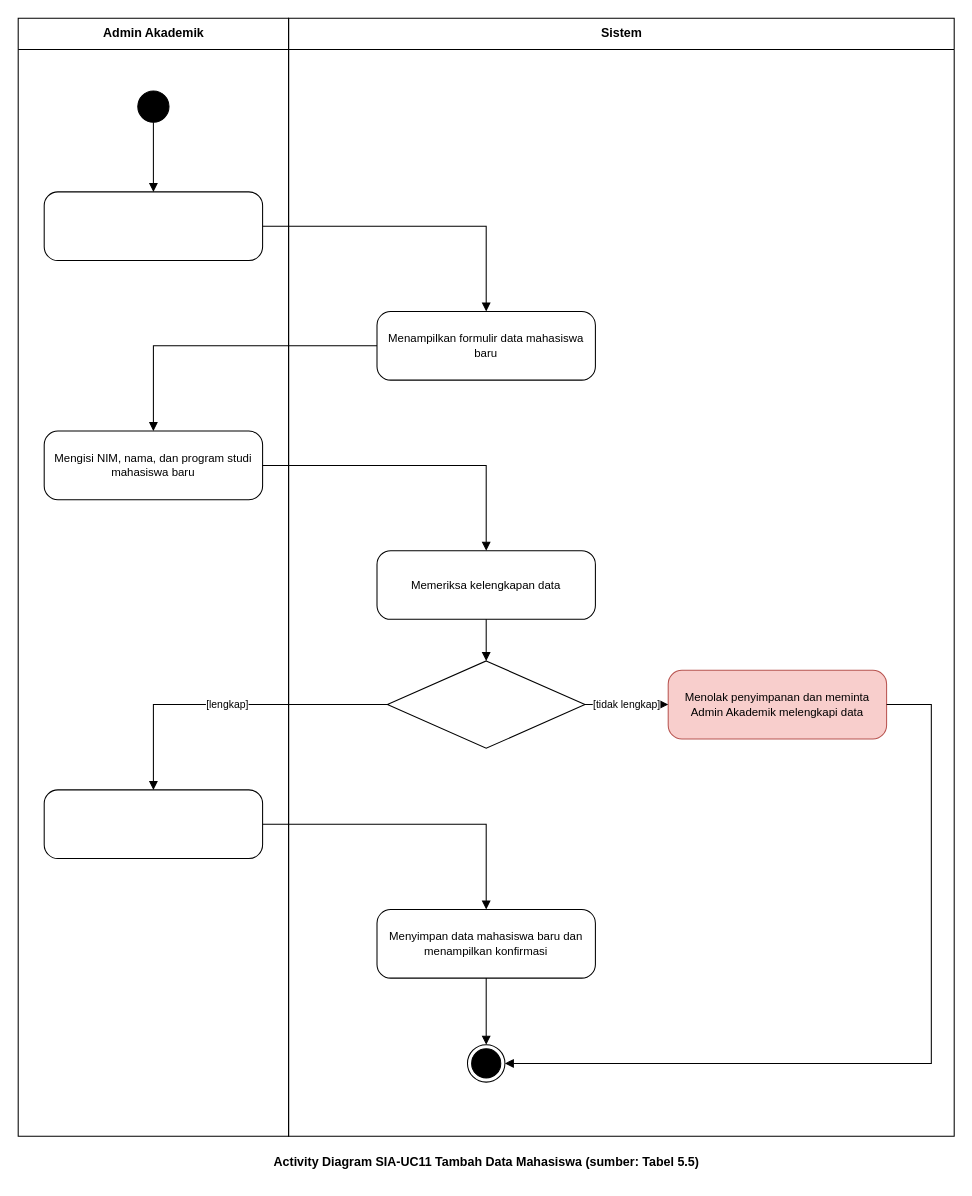
This 972x1196 diagram has some shape labels left out. The centre of each missing label's shape, as x and y in pixels:
Data lengkap?: point 485,704
Membuka fungsi Tambah Data Mahasiswa: point 153,226
Menyimpan data: point 153,824
